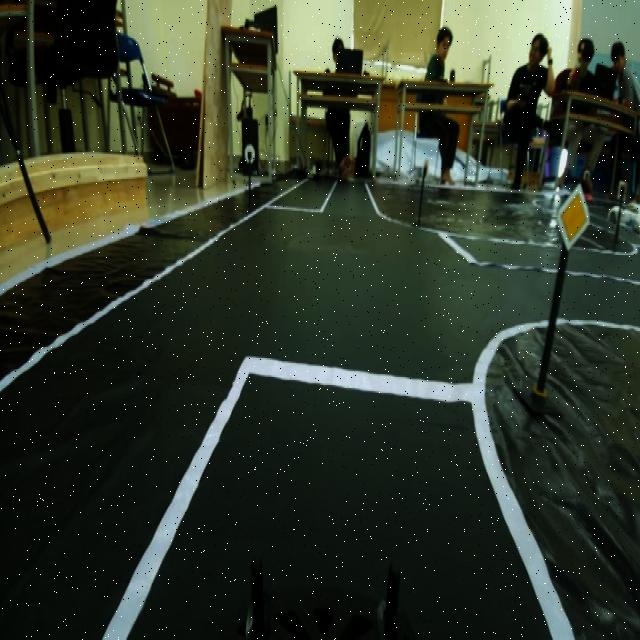priority: (551, 179, 594, 252)
